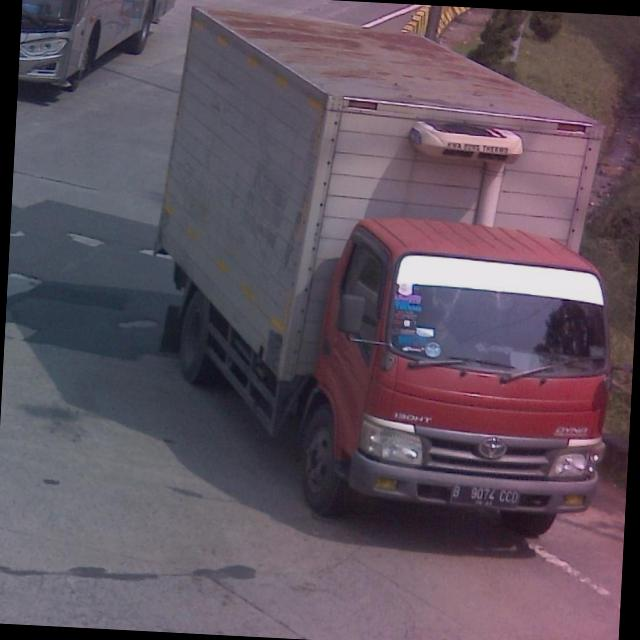plate: (451, 481, 523, 513)
